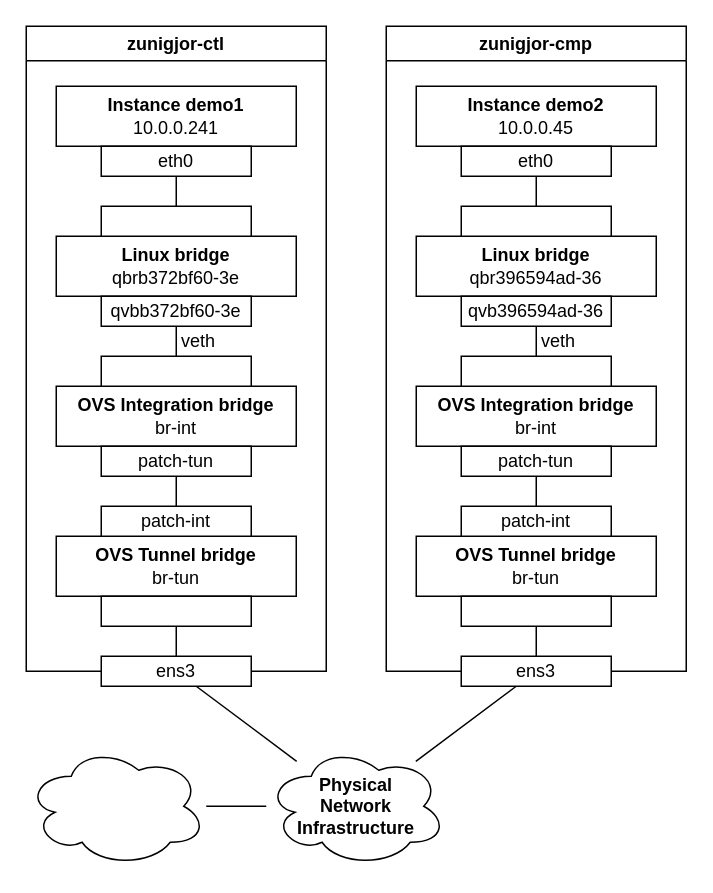
This 713x893 diagram has some shape labels left out. Each missing label, with the centre of its shape:
"Internet" goes at (x=115, y=805).
"qvo396594ad-36" goes at (x=535, y=370).
"qvob372bf60-3e" goes at (x=175, y=370).
"tap396594ad-36" goes at (x=535, y=220).
"tapb372bf60-3e" goes at (x=175, y=220).
"vxlan-0a774675" goes at (x=535, y=610).
"vxlan-0a7747ce" goes at (x=175, y=610).
